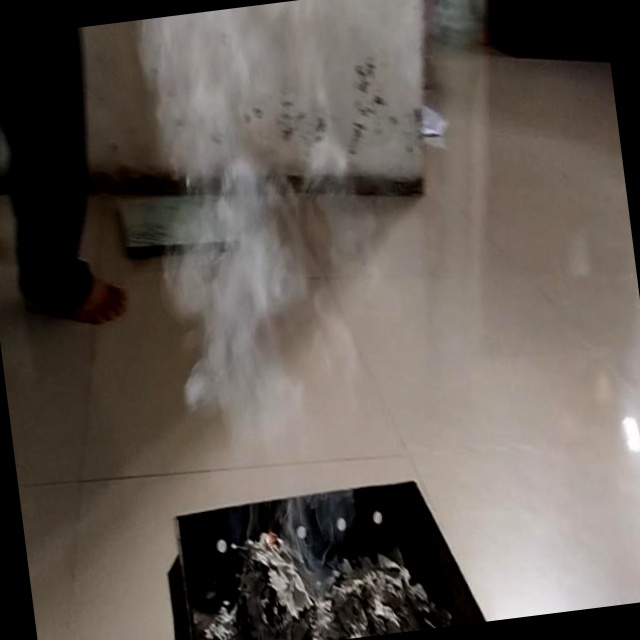smoke: (120, 0, 451, 640)
